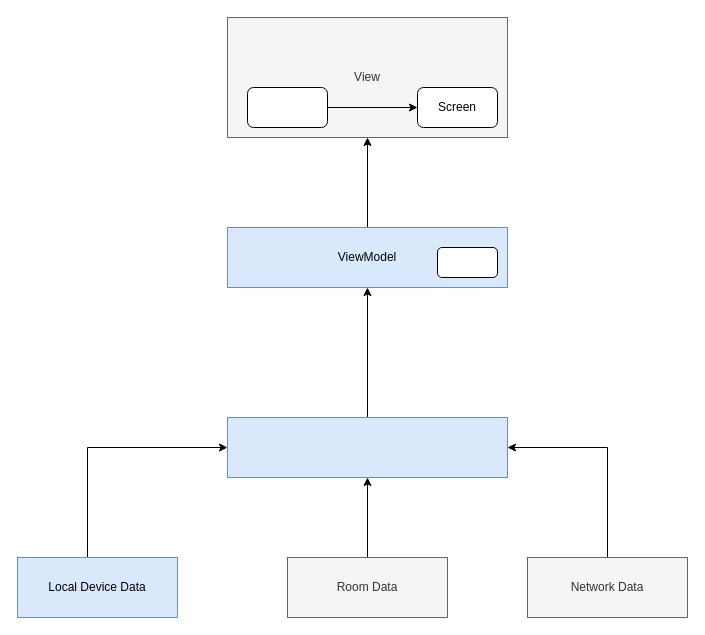
The diagram is 705 pixels wide and 635 high, and some of its shapes have lost their labels. The shapes that lost their labels are listed below. From the top down, each one's box as (x1, y1, x2, y2) in pixels, then its label:
(246, 86, 328, 128): Component
(436, 246, 498, 278): LiveData
(226, 416, 508, 478): Repository
